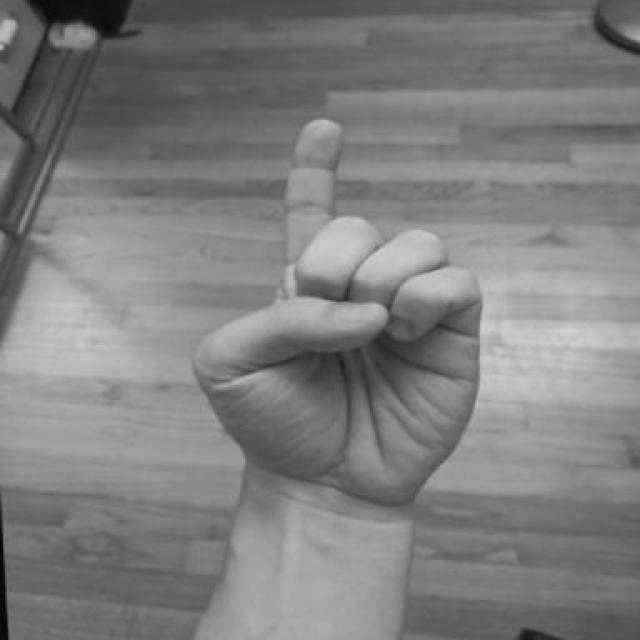D: (171, 104, 499, 521)
